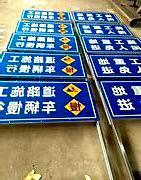sign: (1, 81, 94, 121), (1, 52, 84, 77), (99, 78, 141, 119), (6, 32, 78, 51), (87, 54, 141, 77), (84, 35, 141, 54), (17, 19, 74, 34), (79, 21, 134, 35), (21, 9, 69, 24), (74, 10, 120, 24)
